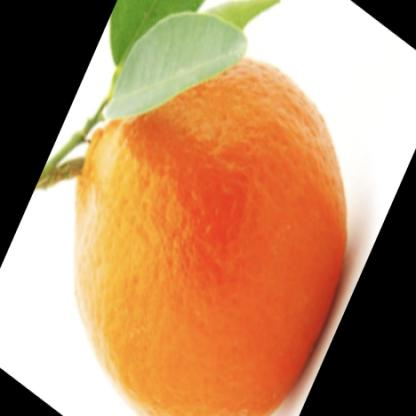fresh: (72, 34, 349, 416)
